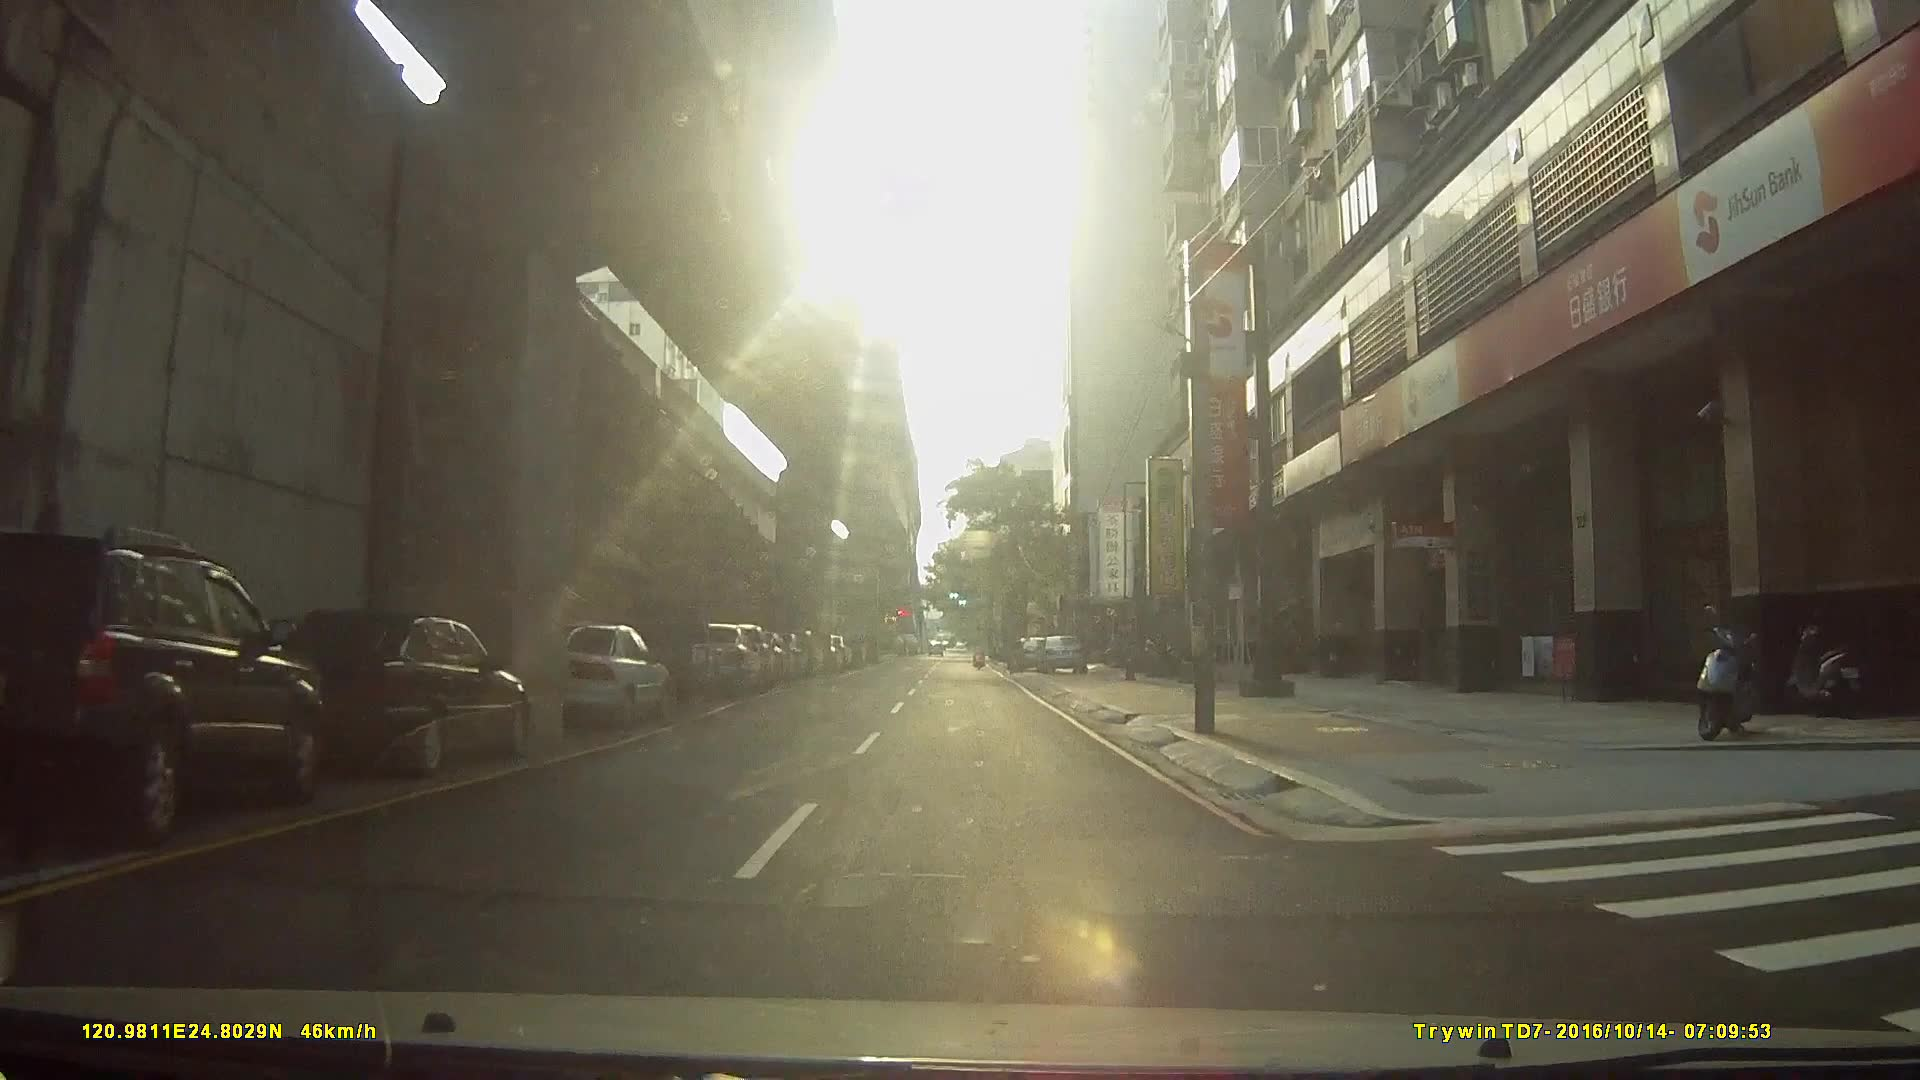vehicle: (0, 525, 328, 847), (240, 607, 534, 774), (529, 616, 671, 729), (605, 600, 717, 702), (659, 620, 794, 670), (1033, 632, 1088, 676)
